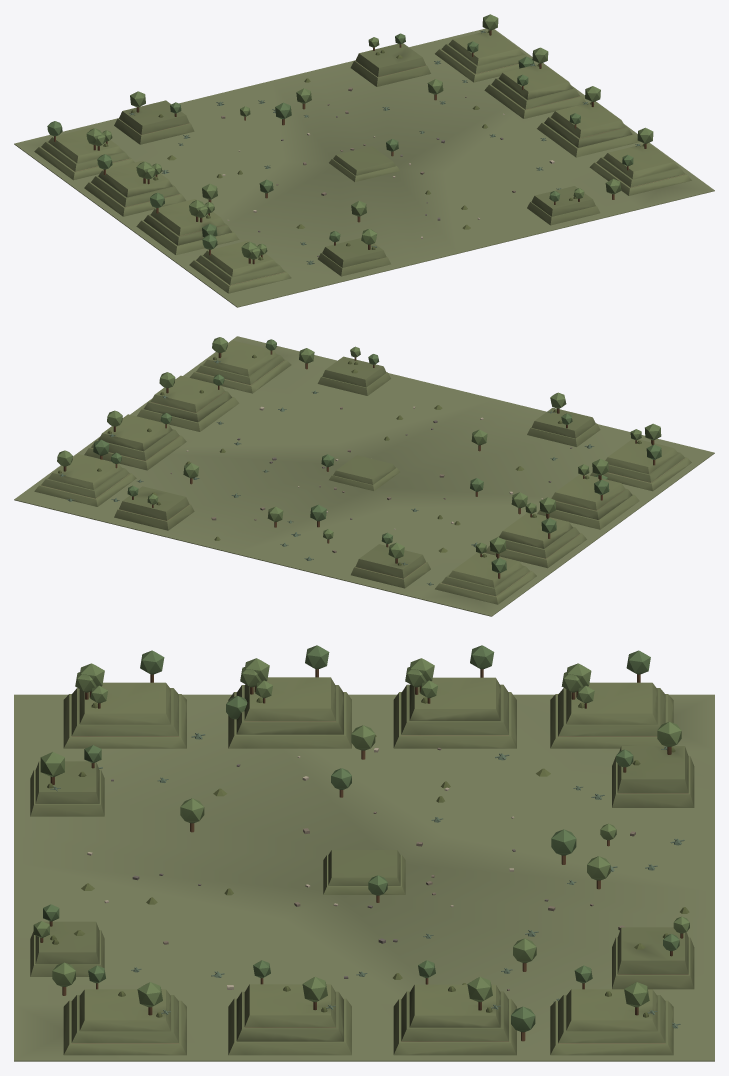
Rendered from moon-plaza-1500.glb.
The picture shows the model from 3 angles, top to bottom: view 1: azimuth 30°, elevation 25°; view 2: azimuth 150°, elevation 25°; view 3: azimuth 270°, elevation 25°; orthographic projection. The views are drawn at different scales.
Visible parts, largest first — view 1: p0_plaza, p1_platforms, p2_growth; view 2: p0_plaza, p1_platforms, p2_growth; view 3: p0_plaza, p1_platforms, p2_growth.
Part boxes in pixels (x1,y1,x2,y2): p0_plaza: (14,28,714,307); p1_platforms: (34,14,691,293); p2_growth: (114,33,621,276); p0_plaza: (14,336,714,616); p1_platforms: (34,337,691,604); p2_growth: (66,346,607,588); p0_plaza: (14,694,714,1061); p1_platforms: (63,645,673,1055); p2_growth: (30,696,694,1041).
Size of the model in its own units: 210 by 17.71 by 170.
